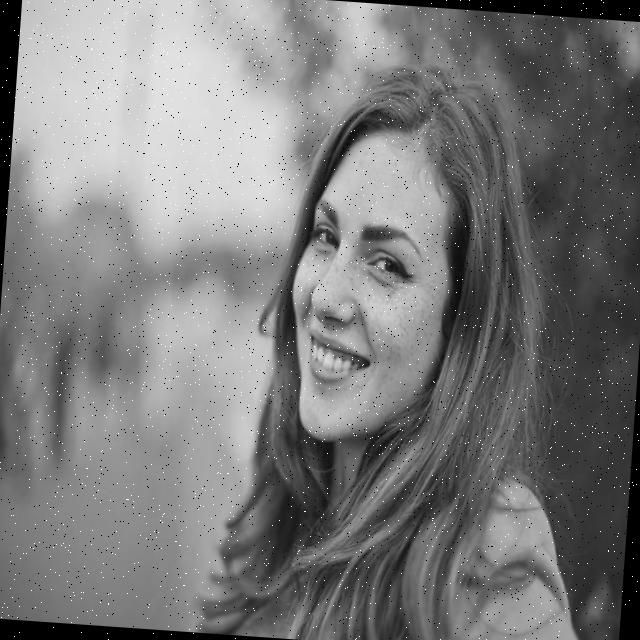Happiness: (280, 130, 462, 453)
